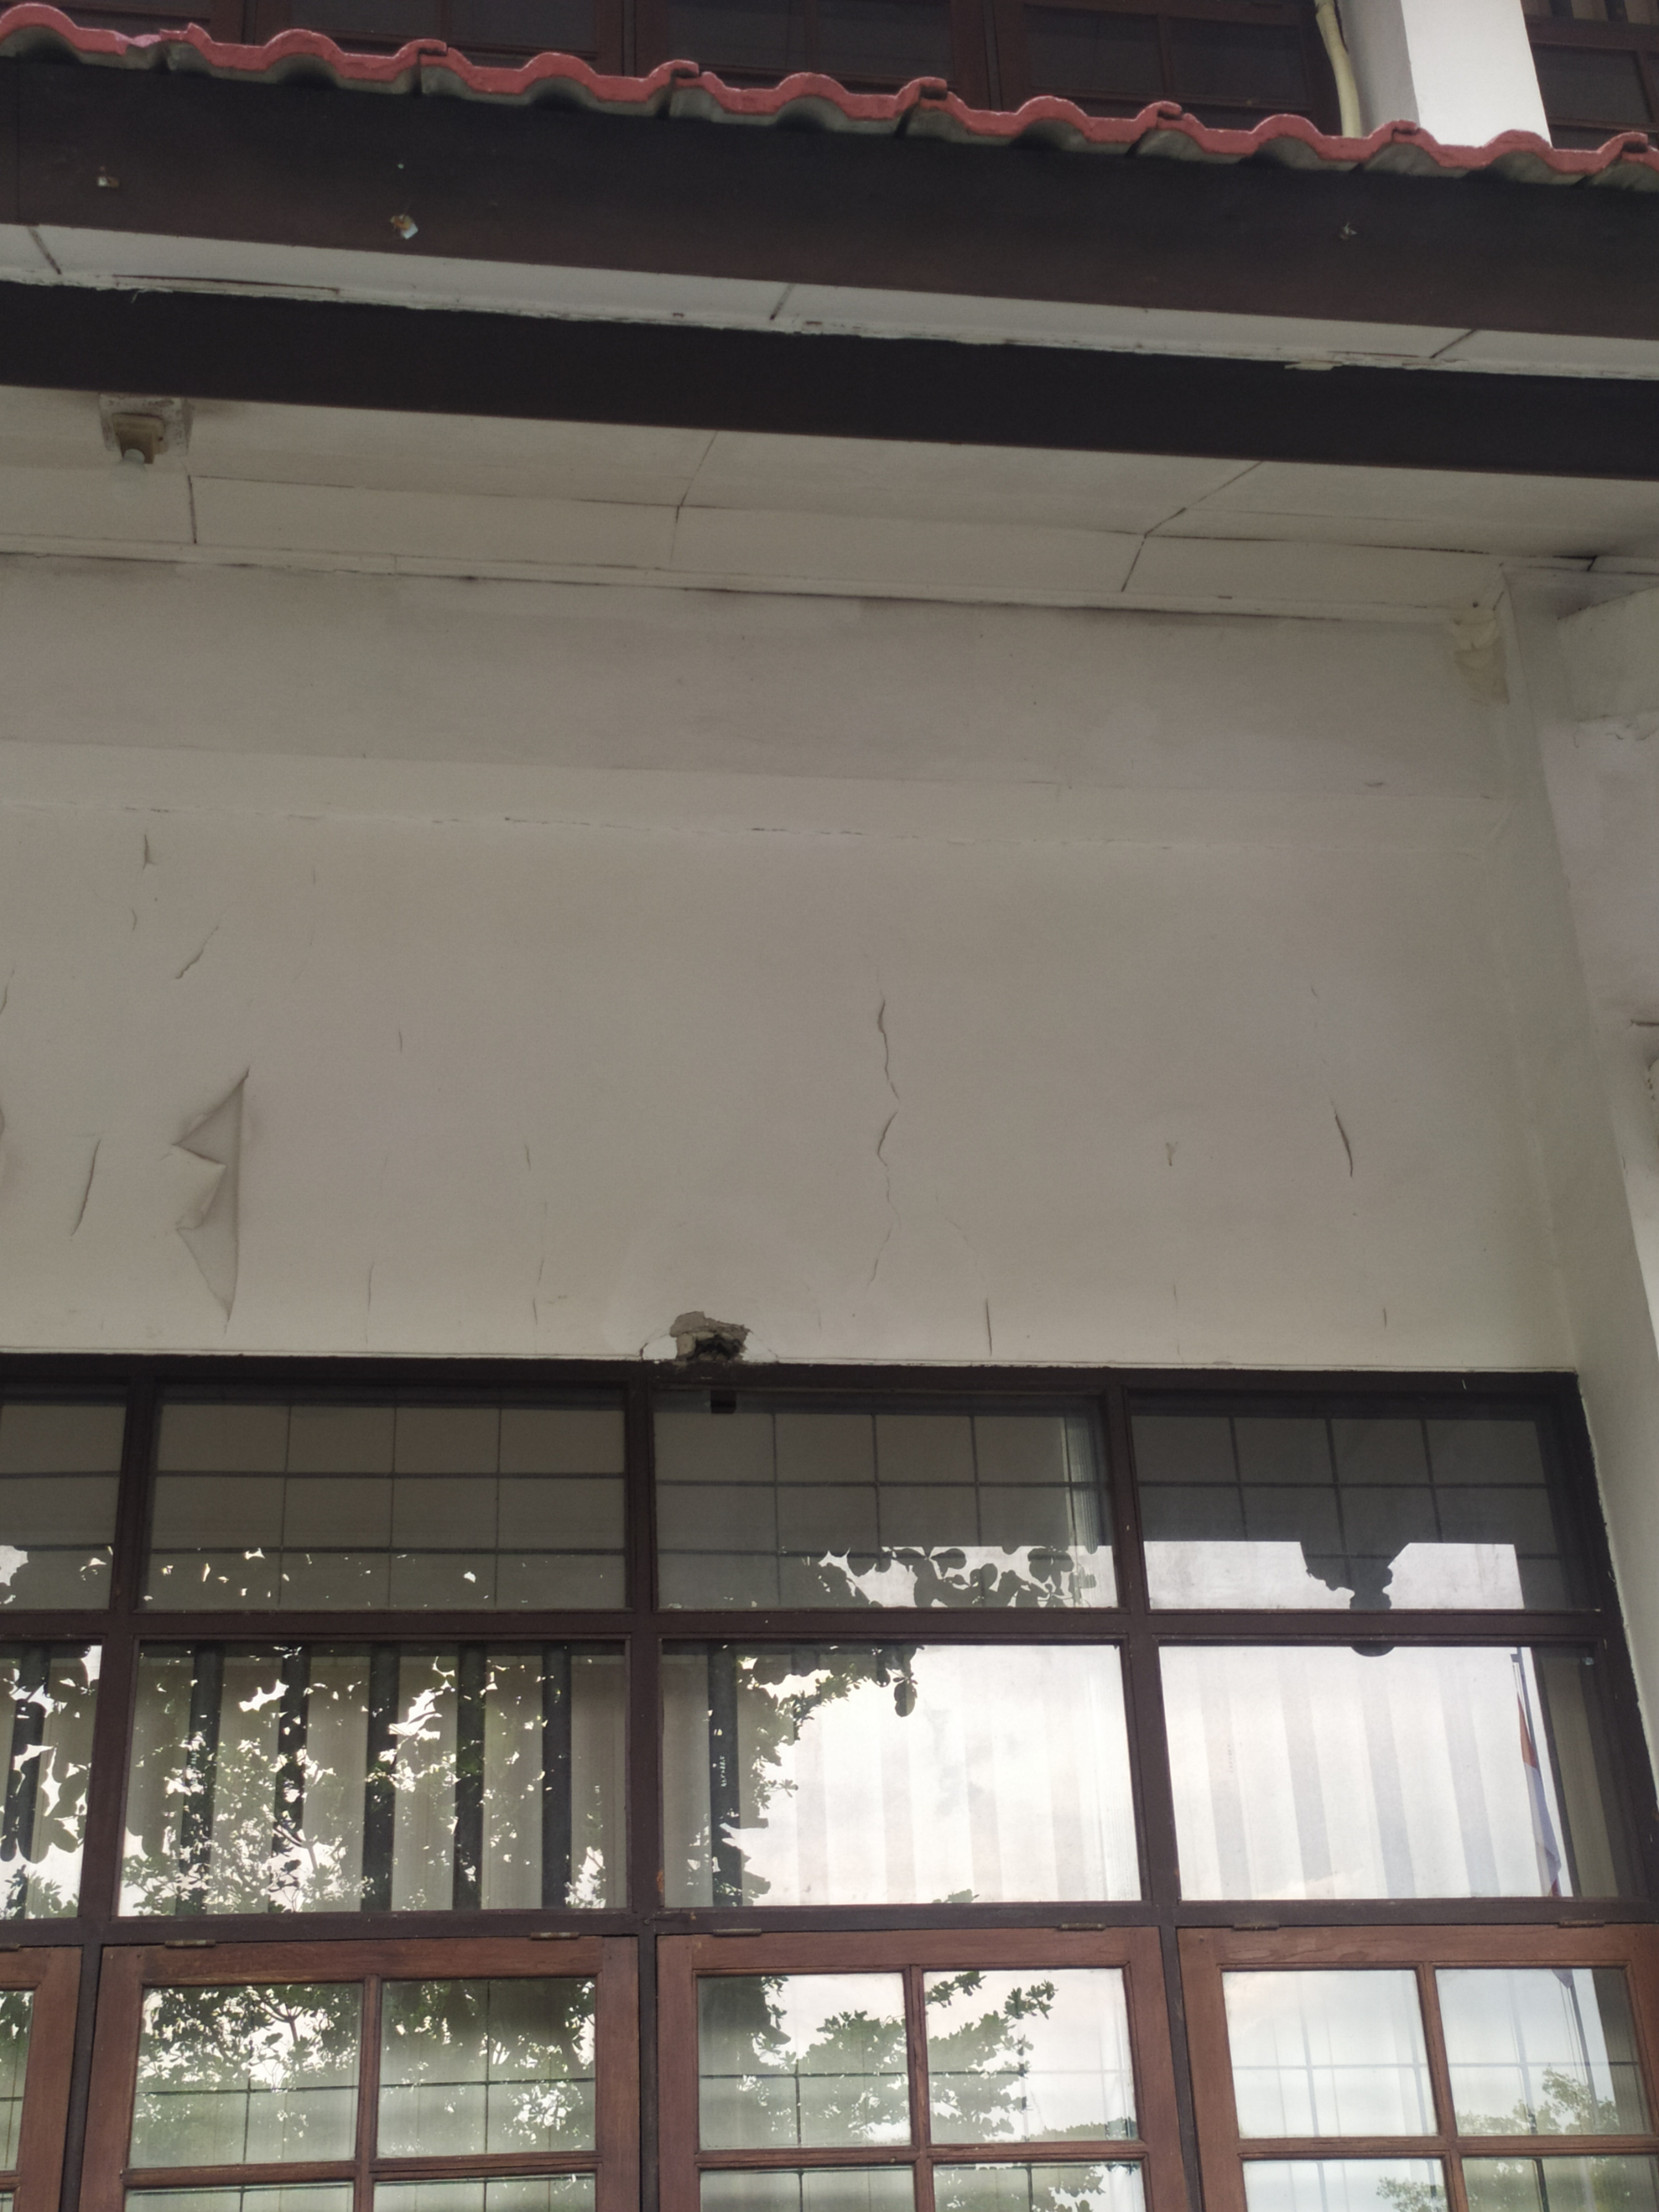crack: (854, 951, 906, 1298), (519, 1127, 554, 1327)
